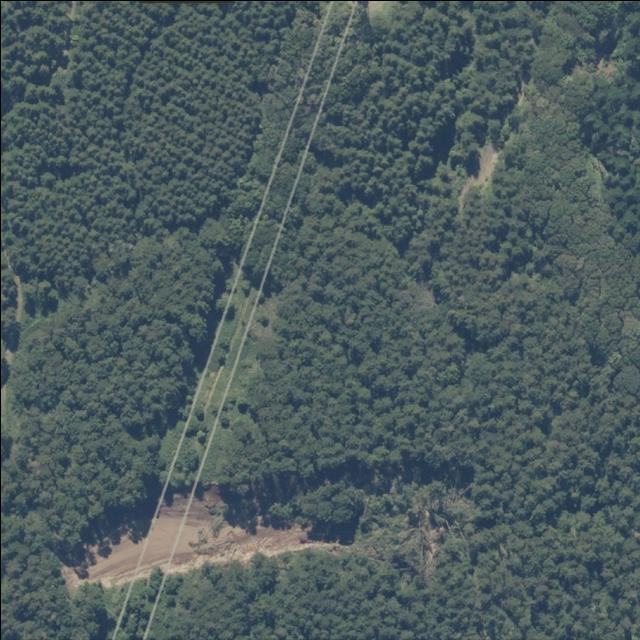landslide: (170, 486, 334, 573), (60, 540, 140, 589), (138, 495, 184, 577)
